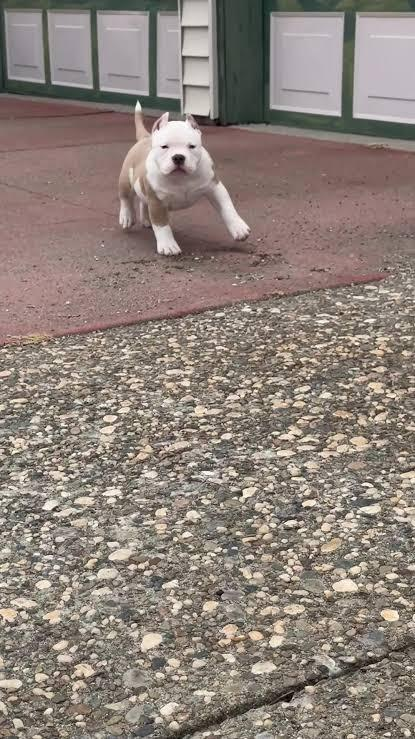puppy-dog: (118, 98, 251, 257)
